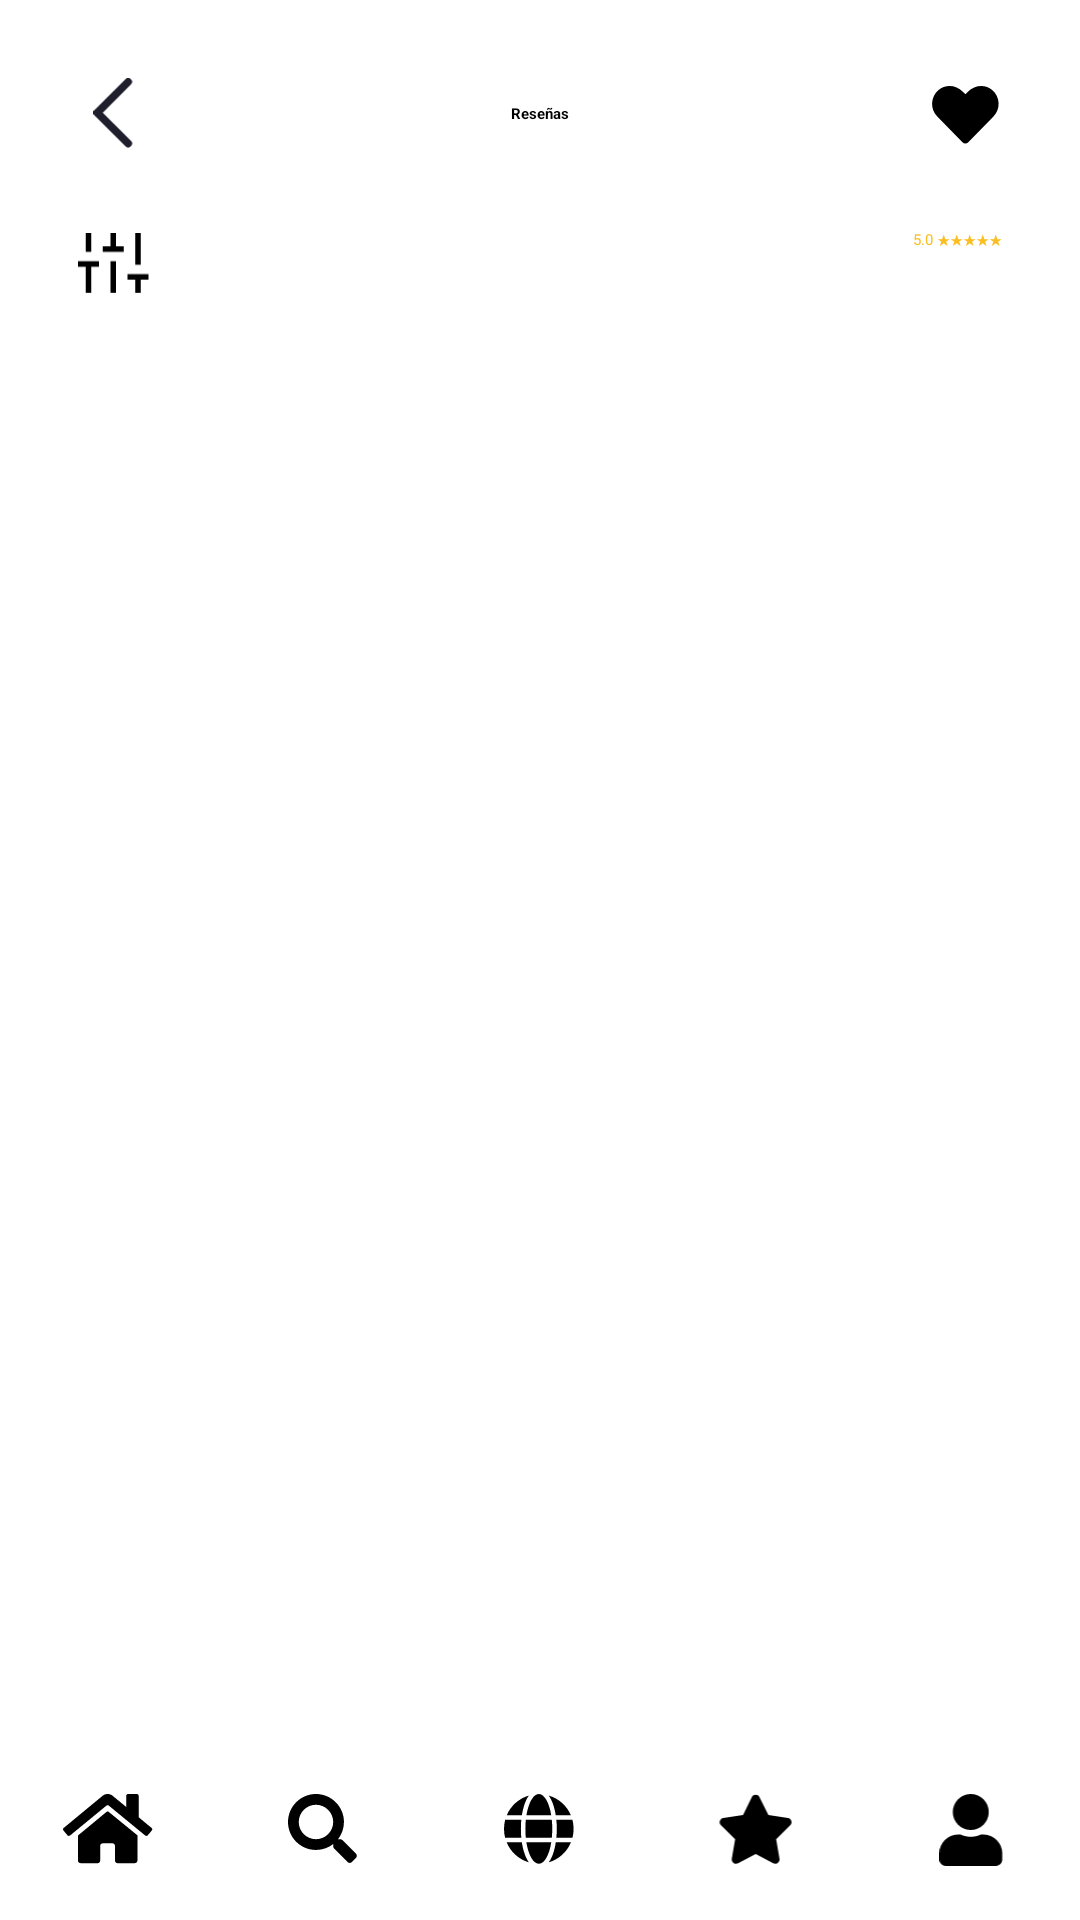

Icons on this 1080w x 1920h Android screen, each with its box as {"left": x1, "top": y1, "right": x2, "bottom": y2}:
arrow left: {"left": 93, "top": 78, "right": 133, "bottom": 148}
globe: {"left": 504, "top": 1794, "right": 574, "bottom": 1864}
heart: {"left": 932, "top": 86, "right": 999, "bottom": 144}
home: {"left": 63, "top": 1794, "right": 153, "bottom": 1864}
instant mix: {"left": 78, "top": 233, "right": 149, "bottom": 293}
search: {"left": 288, "top": 1794, "right": 357, "bottom": 1863}
star: {"left": 719, "top": 1794, "right": 792, "bottom": 1864}
user: {"left": 939, "top": 1794, "right": 1003, "bottom": 1866}
